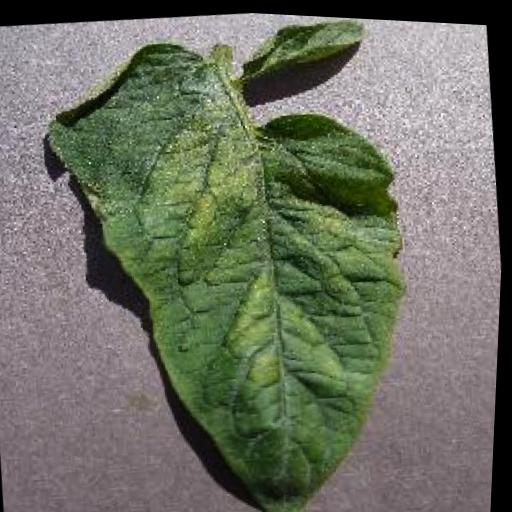Spider Mites: (25, 11, 438, 512)
